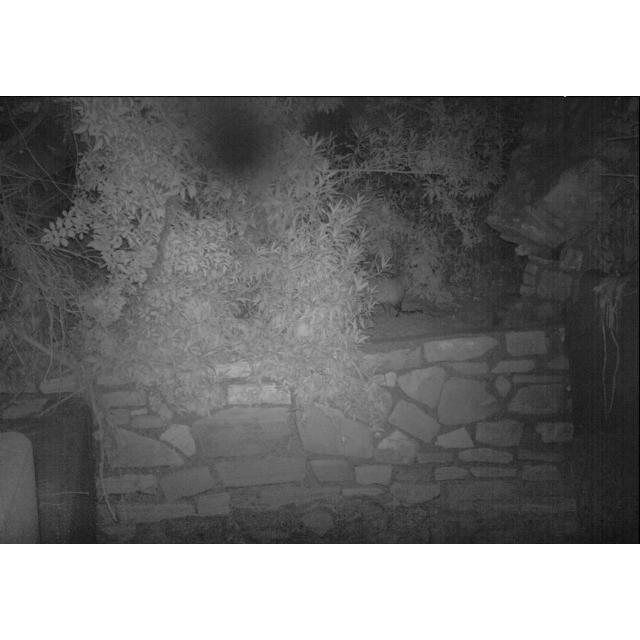animals: (356, 264, 420, 322)
